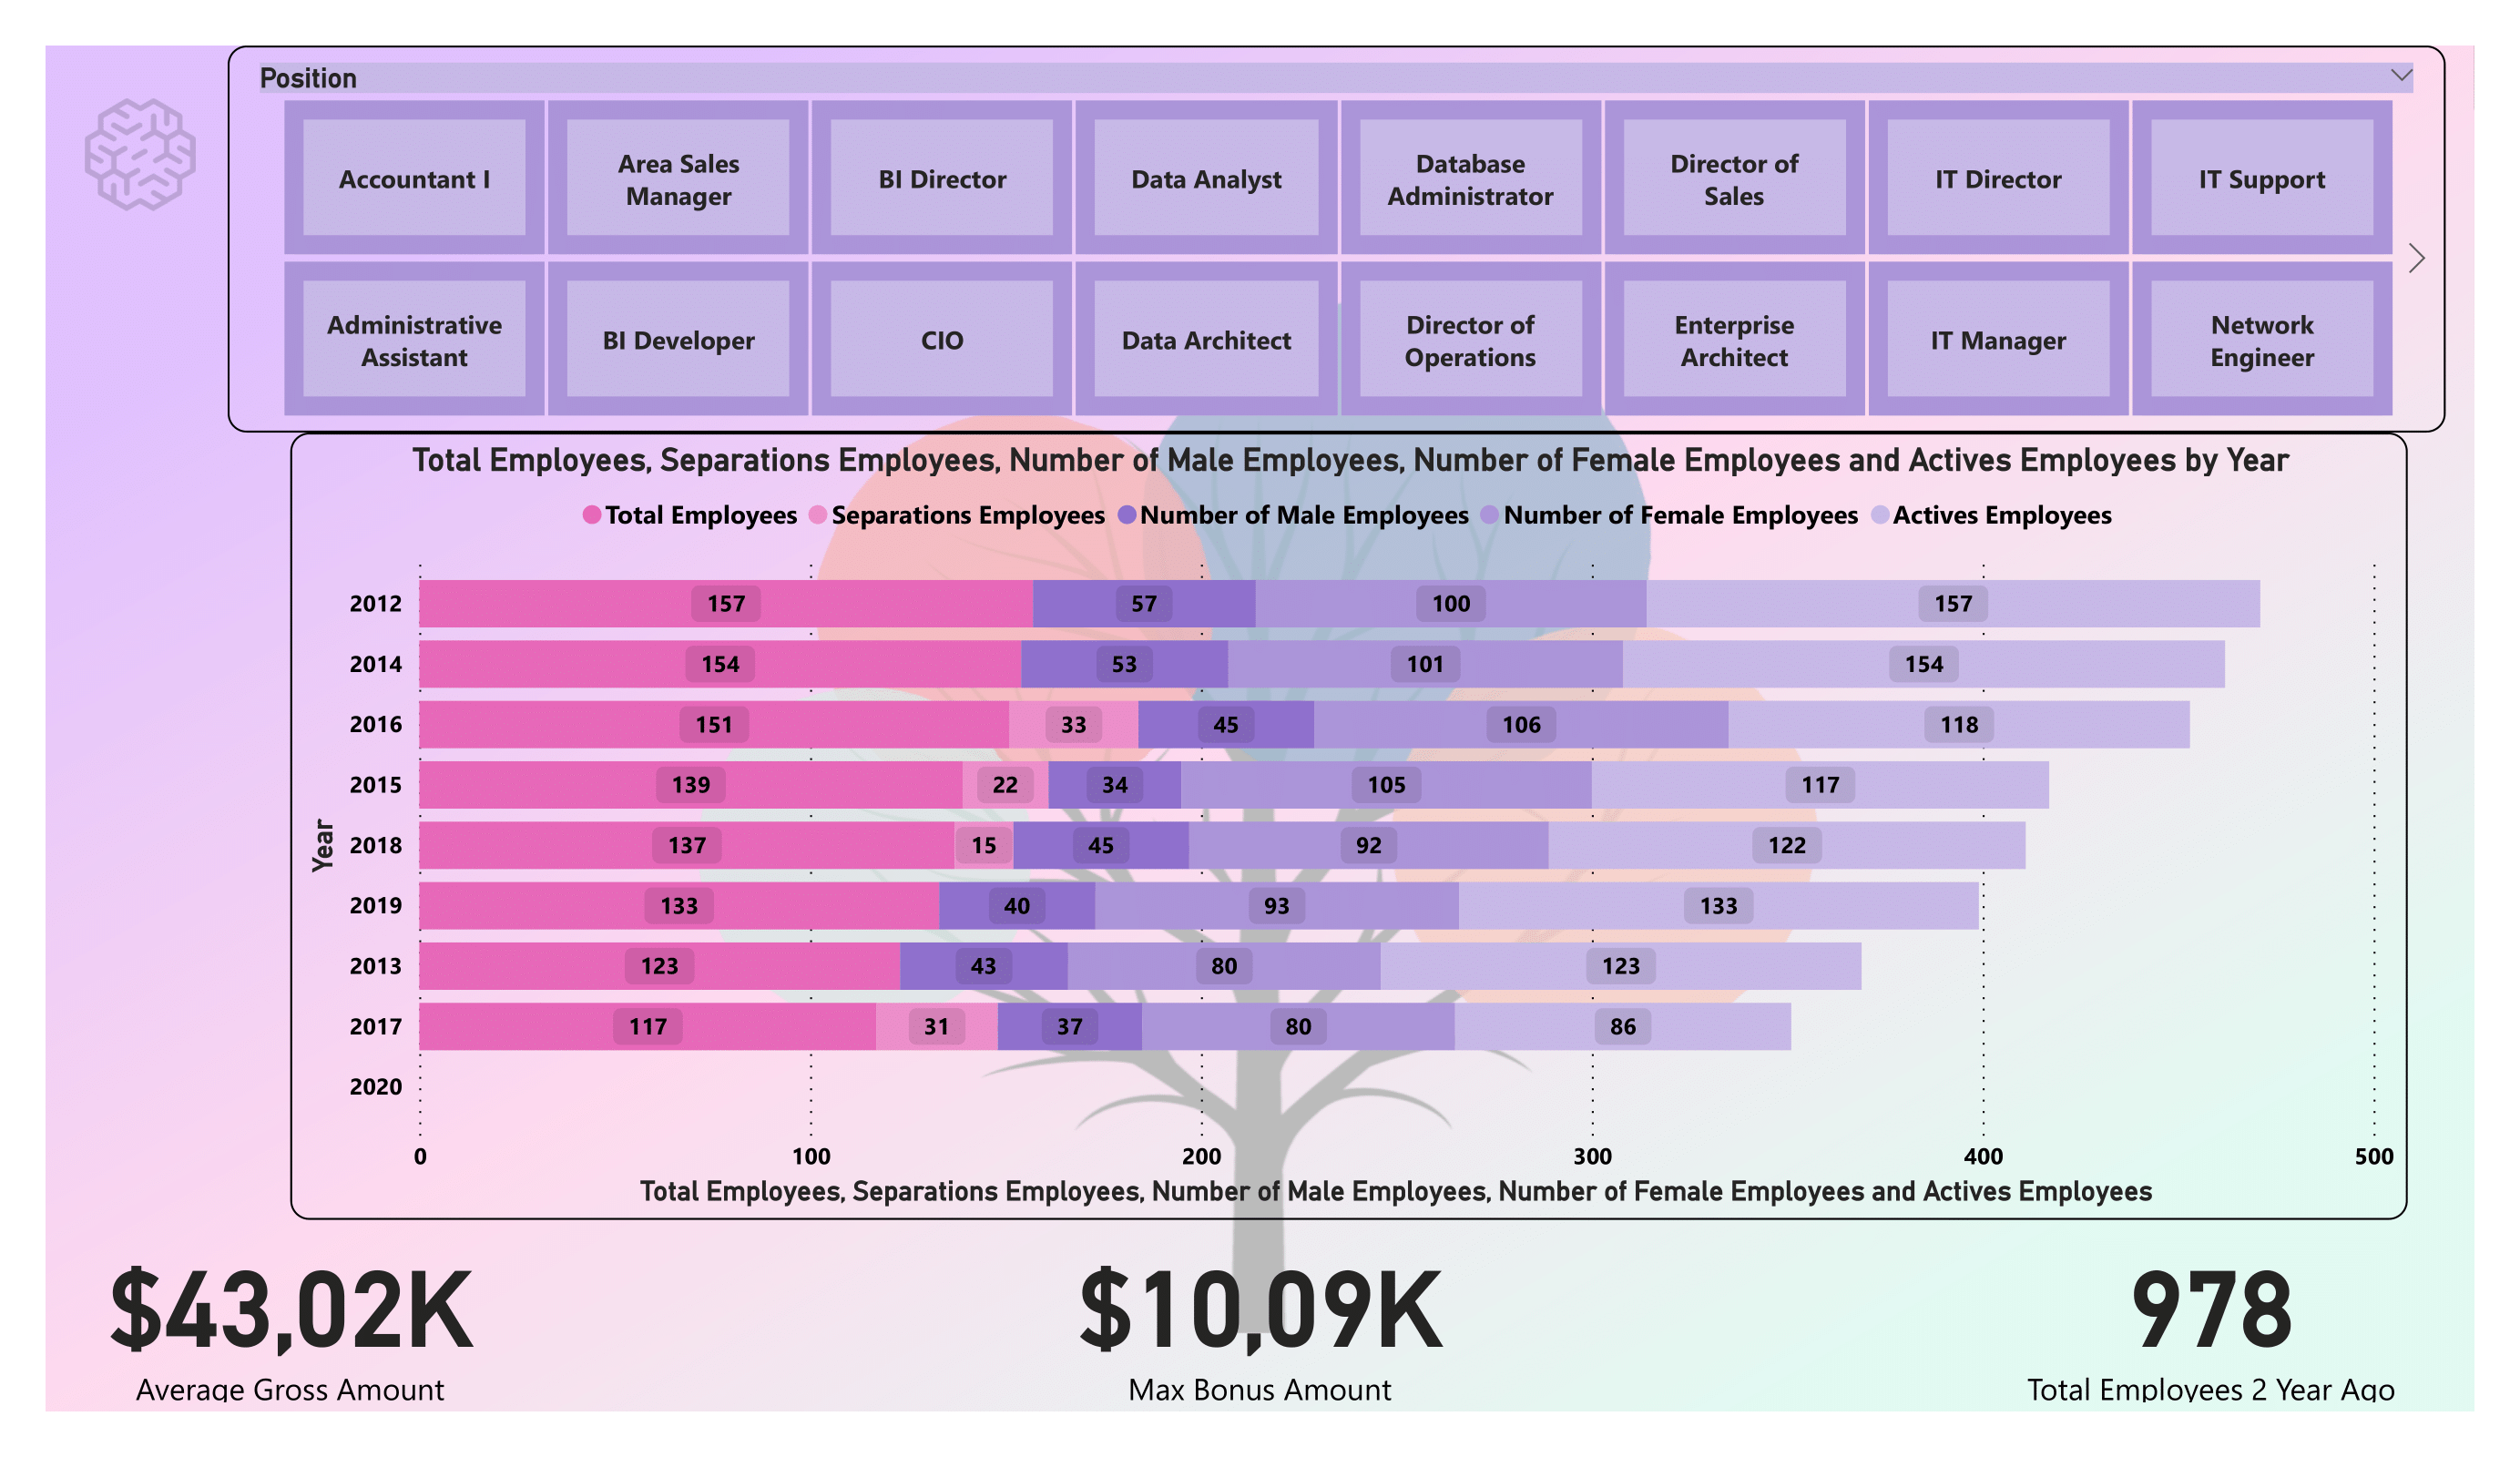

This screenshot's page, from the dashboard's own definition file:
{"tool":"powerbi","page":{"name":"ADDITIONAL VISUALS","canvas":[1280,720],"ordinal":10},"visuals":[{"type":"image","box":[15.4,22.7,69,69],"z":0},{"type":"card","fields":{"Values":["5.AdditionalKeyMeasures.Average Gross Amount"]},"box":[0,619.3,257.9,101],"z":1000},{"type":"card","fields":{"Values":["5.AdditionalKeyMeasures.Max Bonus Amount"]},"box":[513.5,619.3,253.1,101],"z":2000},{"type":"card","fields":{"Values":["5.AdditionalKeyMeasures.Total Employees 2 Year Ago"]},"box":[1002.6,619.3,277.4,101],"z":3000},{"type":"slicer","fields":{"Values":["Position.Position"]},"box":[96.1,0,1169.3,204.4],"z":4000},{"type":"barChart","fields":{"Y":["1.DepartmentKeyMeasures.Total Employees","1.DepartmentKeyMeasures.Separations Employees","1.DepartmentKeyMeasures.Number of Male Employees","1.DepartmentKeyMeasures.Number of Female Employees","1.DepartmentKeyMeasures.Actives Employees"],"Category":["Calendar.Year"]},"box":[129,204.4,1115.7,414.9],"z":5000}]}

Visuals, with their boxes on the page's 1280x720 design canvas (x1, y1, x2, y2). These are canvas units, not pixel positions in the 2520x1457 screenshot, which may show the page scaled, cropped or inside an application window:
image: 15/23/84/92
card - 5.AdditionalKeyMeasures.Average Gross Amount: 0/619/258/720
card - 5.AdditionalKeyMeasures.Max Bonus Amount: 514/619/767/720
card - 5.AdditionalKeyMeasures.Total Employees 2 Year Ago: 1003/619/1280/720
slicer - Position.Position: 96/0/1265/204
barChart - 1.DepartmentKeyMeasures.Total Employees x 1.DepartmentKeyMeasures.Separations Employees: 129/204/1245/619
